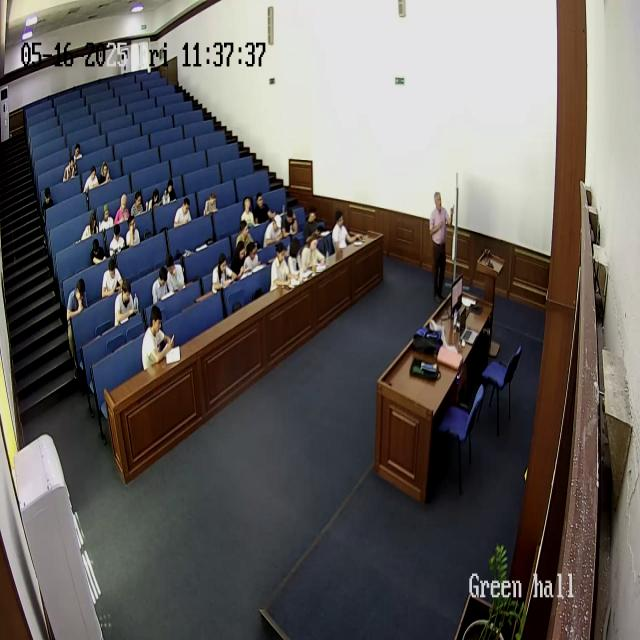person: (429, 191, 453, 299), (142, 306, 176, 369), (66, 277, 88, 373), (331, 209, 361, 253), (270, 244, 294, 294), (114, 279, 138, 328), (300, 232, 325, 276), (212, 252, 236, 294), (101, 254, 123, 298), (152, 264, 174, 305), (286, 238, 306, 283), (238, 239, 260, 278), (165, 254, 185, 294), (263, 211, 285, 247), (304, 207, 328, 240), (254, 192, 274, 224), (80, 210, 100, 242), (282, 201, 298, 236), (236, 221, 252, 255), (174, 198, 192, 228), (110, 223, 126, 256), (90, 238, 108, 267), (125, 216, 141, 248), (114, 193, 130, 225), (83, 164, 99, 194), (99, 203, 115, 232), (42, 187, 56, 220), (240, 196, 254, 228), (62, 153, 78, 181), (130, 191, 146, 218), (204, 191, 220, 217), (144, 186, 160, 212), (162, 179, 176, 205), (98, 160, 112, 185), (71, 143, 83, 171)
